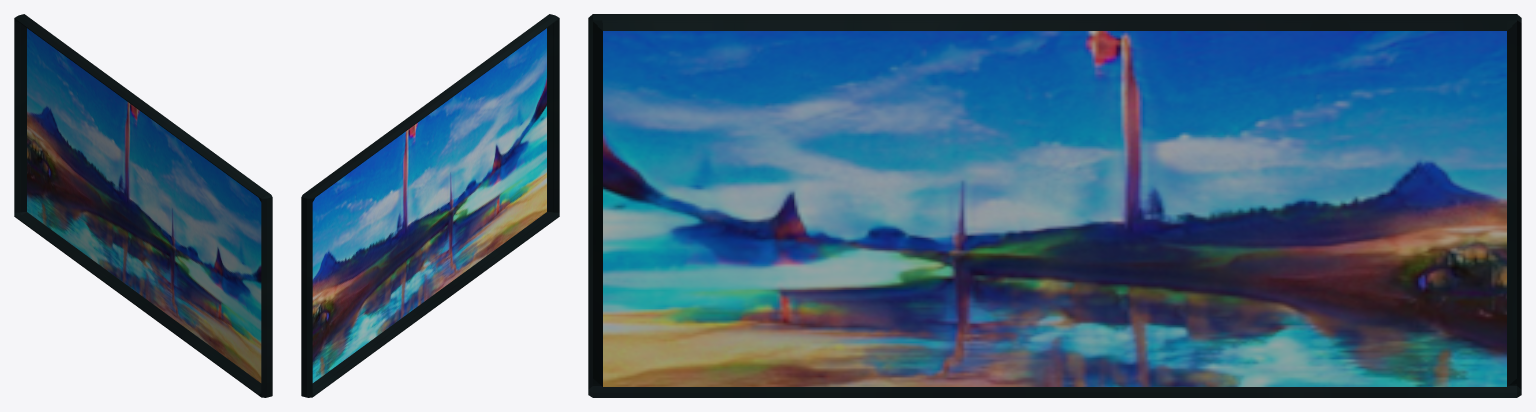
File: picture-landscape-1.fbx
3 renders of one model, left to right at view 1: azimuth 30°, elevation 25°; view 2: azimuth 150°, elevation 25°; view 3: azimuth 270°, elevation 25°, orthographic. The views are drawn at different scales.
Parts seen in each view (by area): view 1: warhol picture.002; view 2: warhol picture.002; view 3: warhol picture.002.
Boxes of the visible parts, <box> form: warhol picture.002: <box>14,14,272,397</box>; warhol picture.002: <box>301,14,559,397</box>; warhol picture.002: <box>588,14,1521,397</box>.
Size of the model in its own units: 30.32 by 581 by 1302.
Materials: 1 (1 with a texture image).
